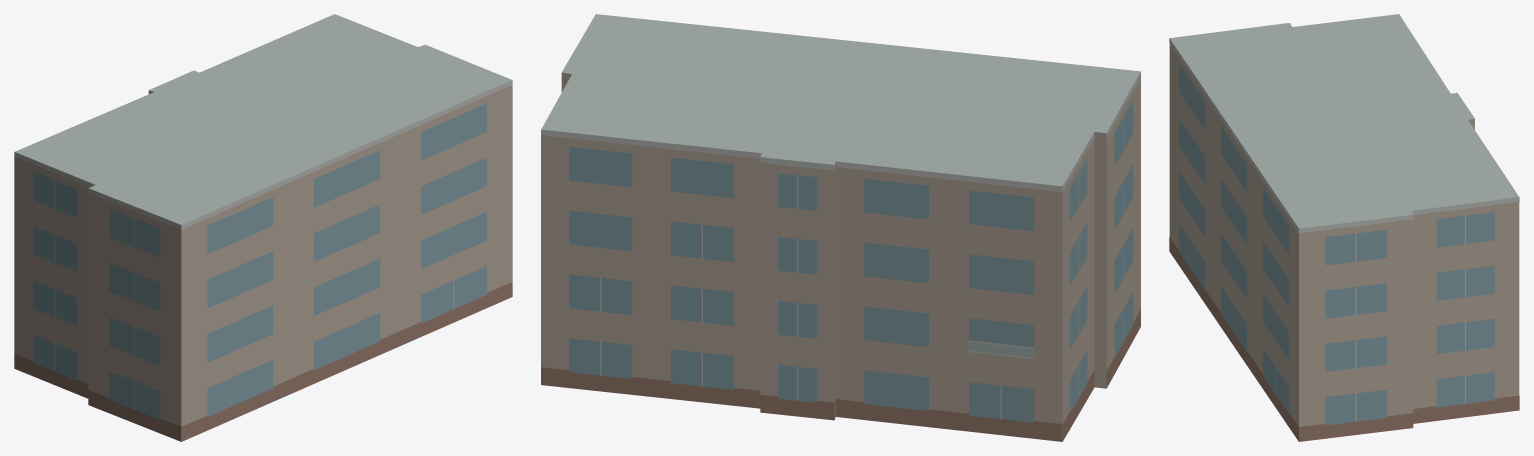
The model's file is survey-upis-33001271.glb.
The picture shows the model from 3 angles, left to right: view 1: azimuth 30°, elevation 25°; view 2: azimuth 150°, elevation 25°; view 3: azimuth 270°, elevation 25°; orthographic projection. The views are drawn at different scales.
Parts seen in each view (by area): view 1: survey-upis-33001271.tmp; view 2: survey-upis-33001271.tmp; view 3: survey-upis-33001271.tmp.
Part boxes in pixels (left/top/right/bottom): survey-upis-33001271.tmp: left=14, top=14, right=512, bottom=441; survey-upis-33001271.tmp: left=541, top=14, right=1140, bottom=441; survey-upis-33001271.tmp: left=1169, top=14, right=1519, bottom=441.
Size of the model in its own units: 23.62 by 10.94 by 16.28.
